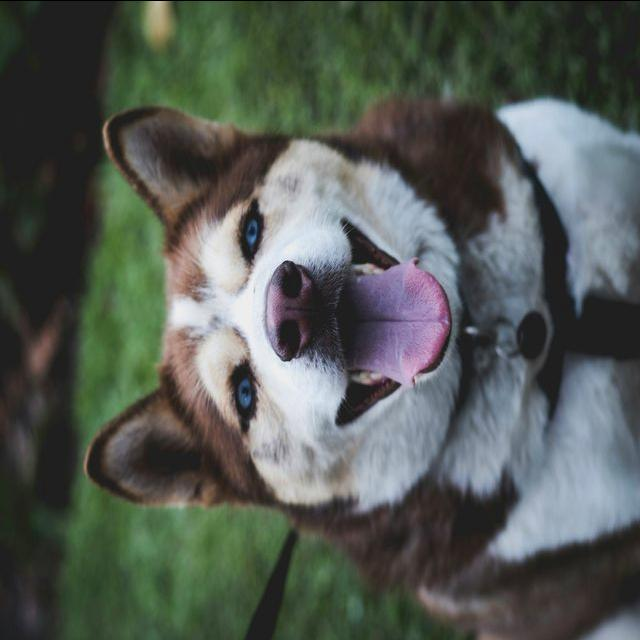husky: (82, 92, 638, 640)
